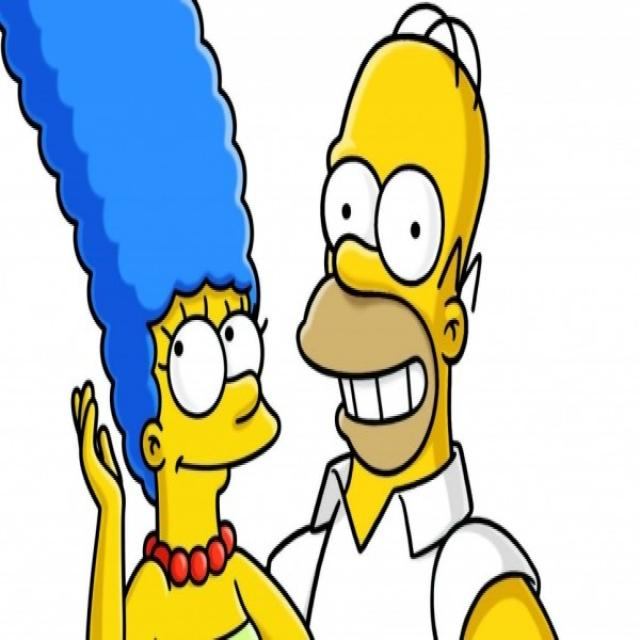Homer Simpson: (292, 0, 493, 527)
Marge Simpson: (0, 0, 284, 595)
